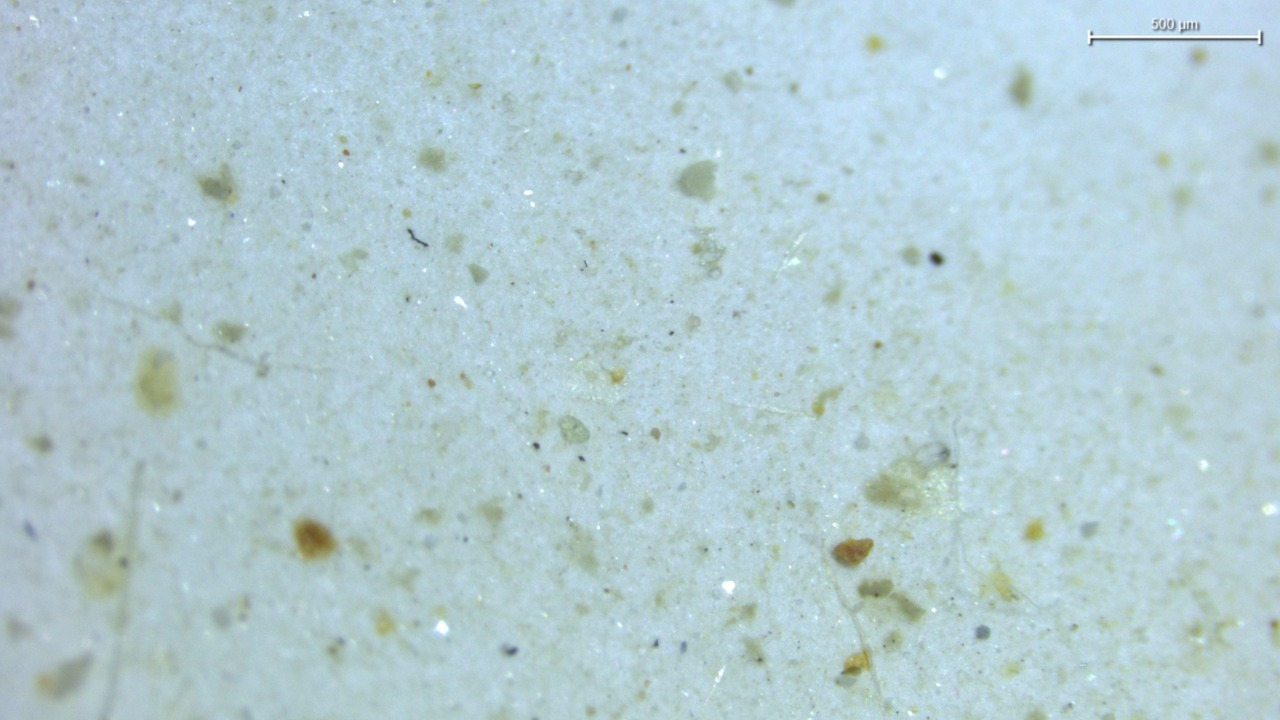microplastic_fragment: (864, 443, 956, 515), (677, 160, 716, 200), (559, 415, 590, 443)
